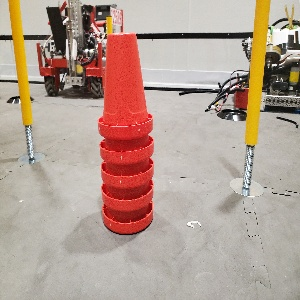Red_5: (97, 32, 153, 234)
